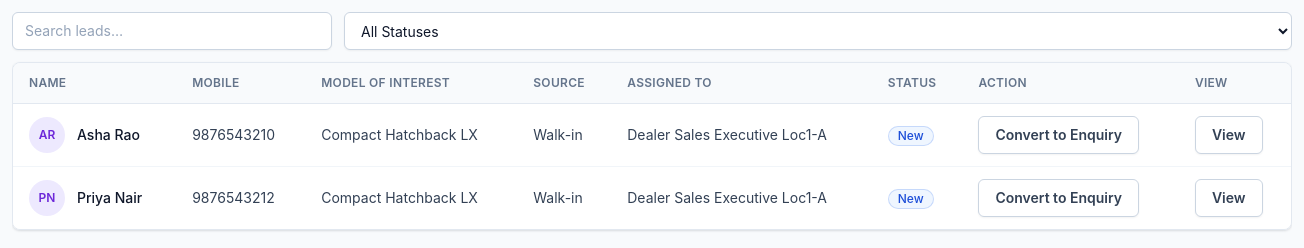
it: LeadQueue — search box (issue #138) › filters rows by customer name as the user types, and clearing the box restores every row
Expected: the text "Asha Rao" is shown, x1=77 y1=125 x2=140 y2=145
Expected: the text "Priya Nair" is shown, x1=77 y1=188 x2=142 y2=208
Type "Priya" into the search field labelled "Search leads…".
click(172, 31); type("Priya")  # box x1=12 y1=12 x2=332 y2=50
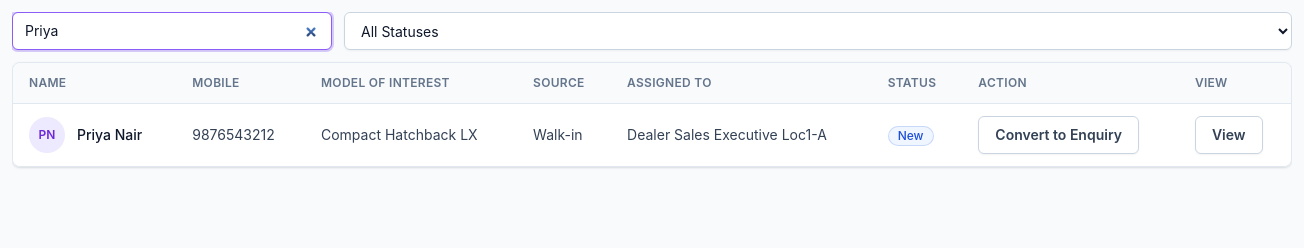
Expected: the text "Priya Nair" is shown, x1=77 y1=125 x2=142 y2=145
Now the text "Asha Rao" is gone
Clear the search field named "Search leads" at point(172, 31), box x1=12 y1=12 x2=332 y2=50
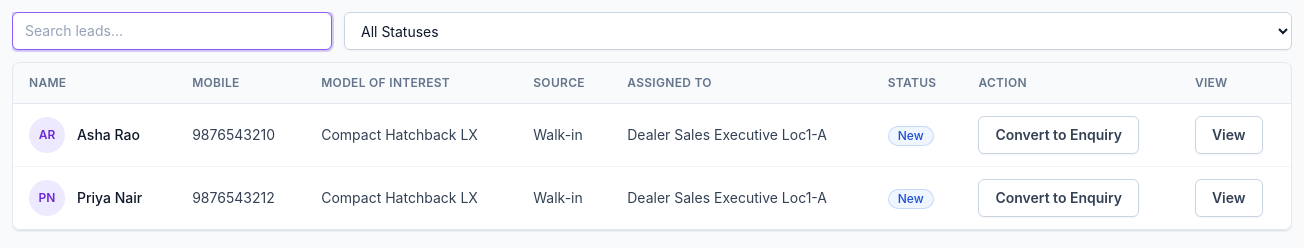
Expected: the text "Priya Nair" is shown, x1=77 y1=188 x2=142 y2=208
Now the text "Asha Rao" is shown, box x1=77 y1=125 x2=140 y2=145
